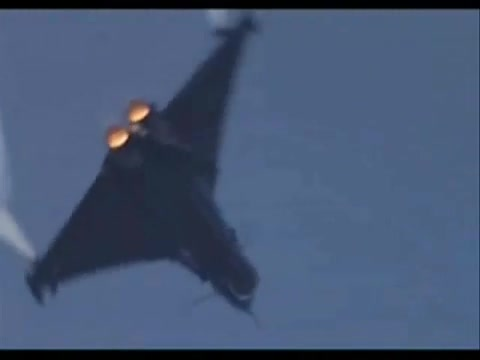aeroplane: (28, 14, 282, 313)
